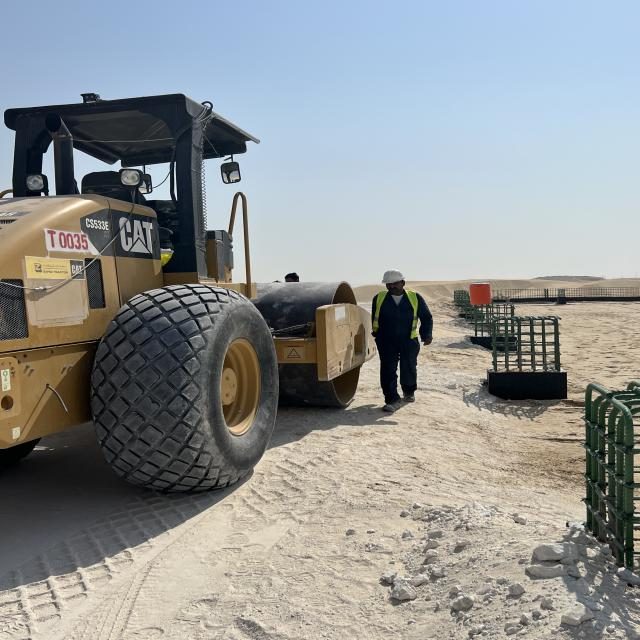Roller: (1, 90, 369, 497)
